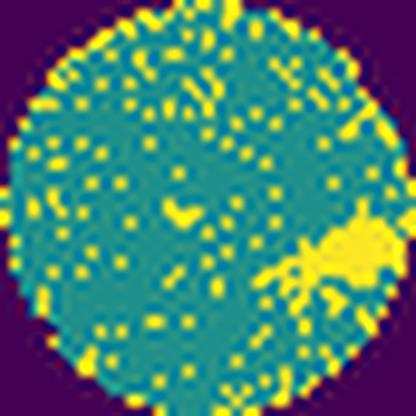Loc: (252, 208, 403, 316), (160, 195, 204, 233)
